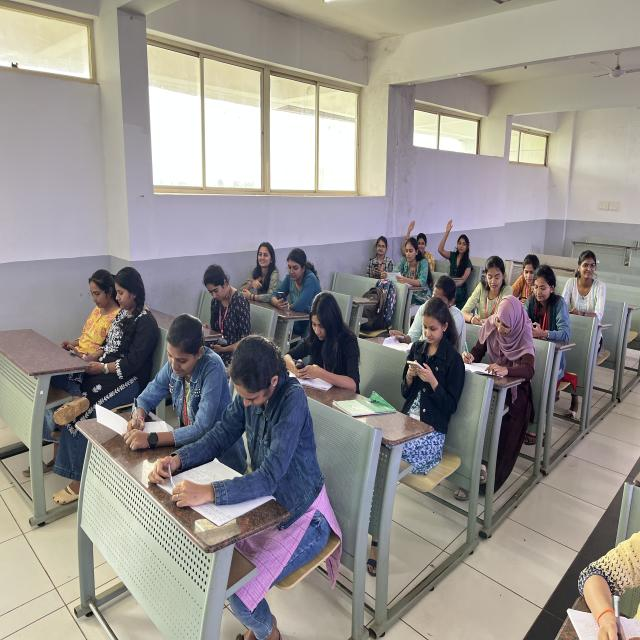Hand Rising: (438, 215, 470, 281)
Reading: (178, 339, 316, 511), (381, 238, 429, 290)
Using Phone: (59, 261, 161, 404), (280, 288, 363, 386), (398, 295, 458, 423), (62, 266, 118, 364), (521, 266, 573, 346), (270, 243, 319, 320), (368, 232, 394, 282)
Writing: (105, 315, 214, 441), (461, 291, 540, 397)
